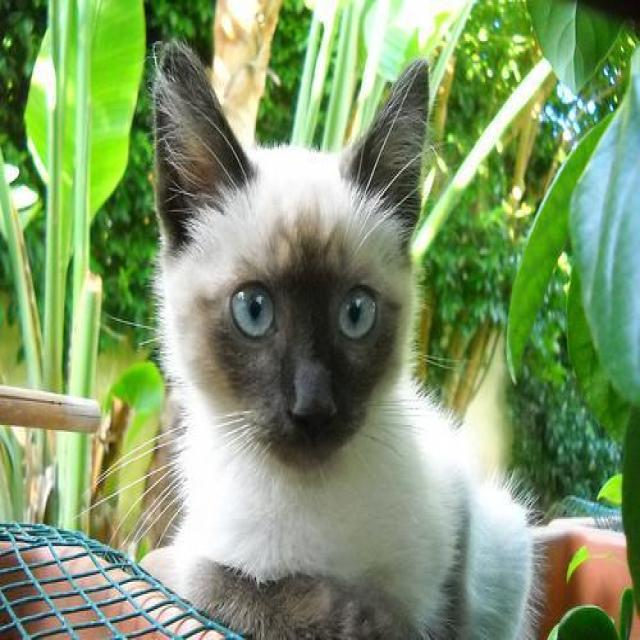cat: (140, 41, 536, 640)
